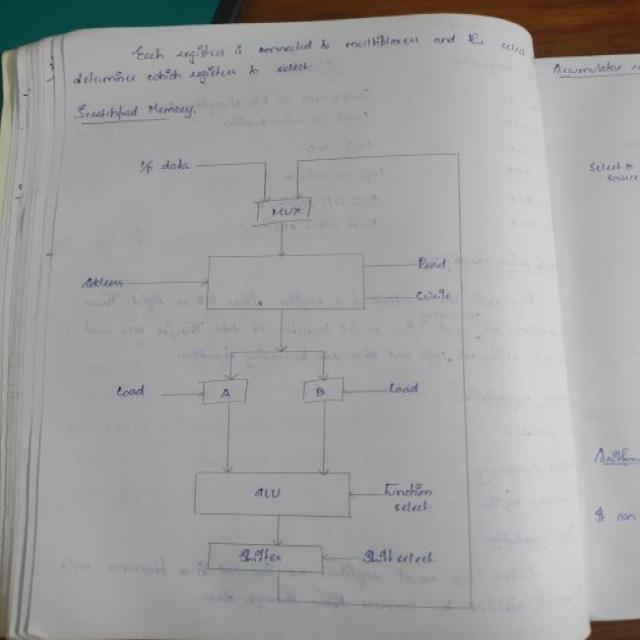Figure Detection - v3 Dataset Version2: (68, 133, 520, 629)
